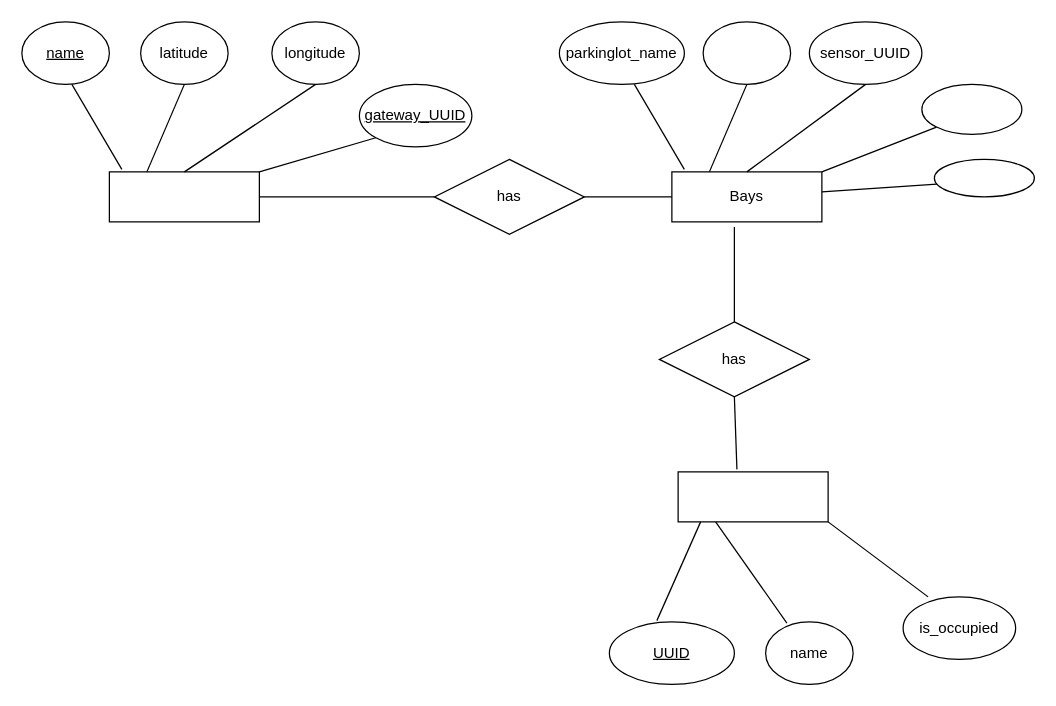
Some shapes in this 1056 by 706 pixel diagram are drawn without their labels. Here are the shapes that lost their labels. From the top down, the centre of each, then its label:
At (746,52): "bay_name".
At (971,108): "pos_x".
At (183,196): "Parking Lot".
At (983,177): "pos_y".
At (752,496): "Sensor".
